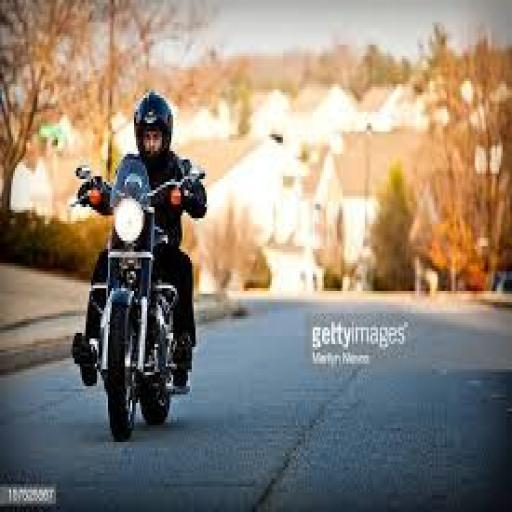helmet: (67, 154, 207, 439), (130, 87, 173, 159)
